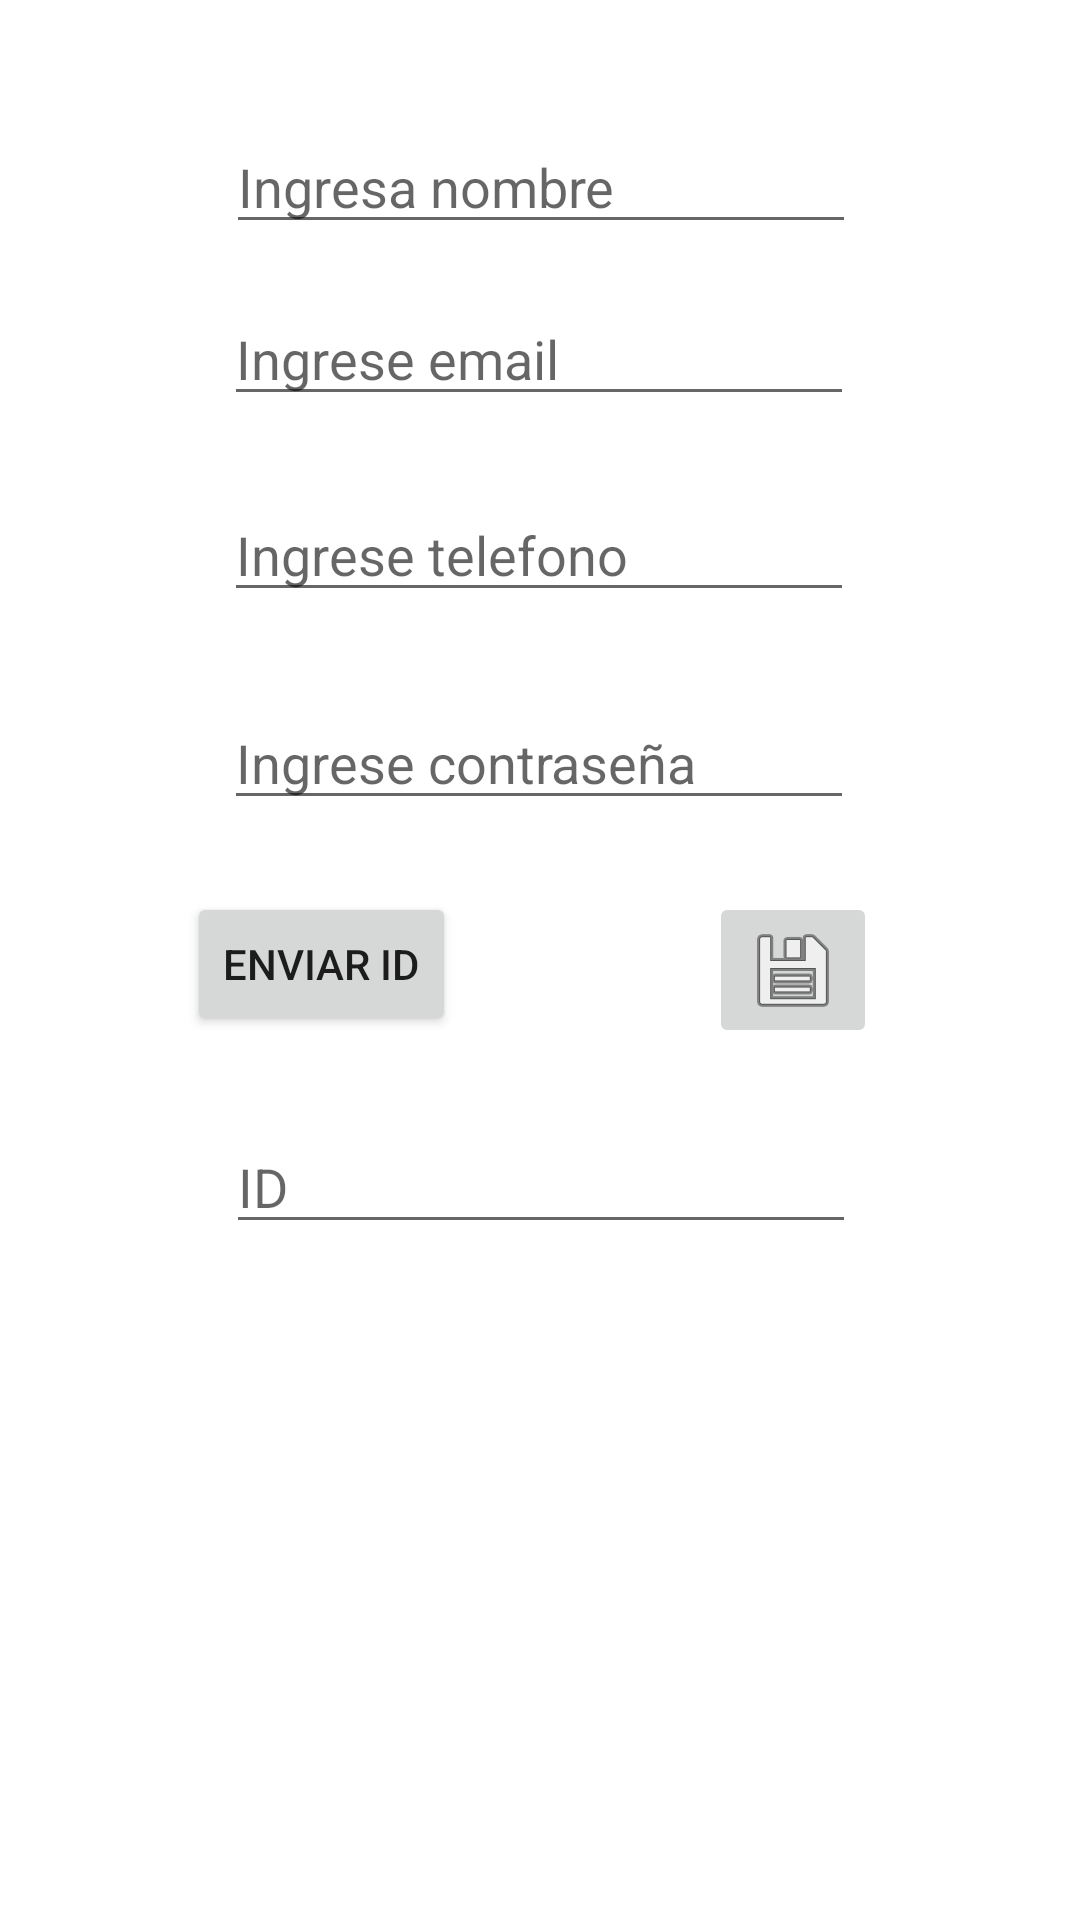

Screen size 1080x1920. Icon name, then its center in pixels as point (x, y):
save: point (793, 970)
